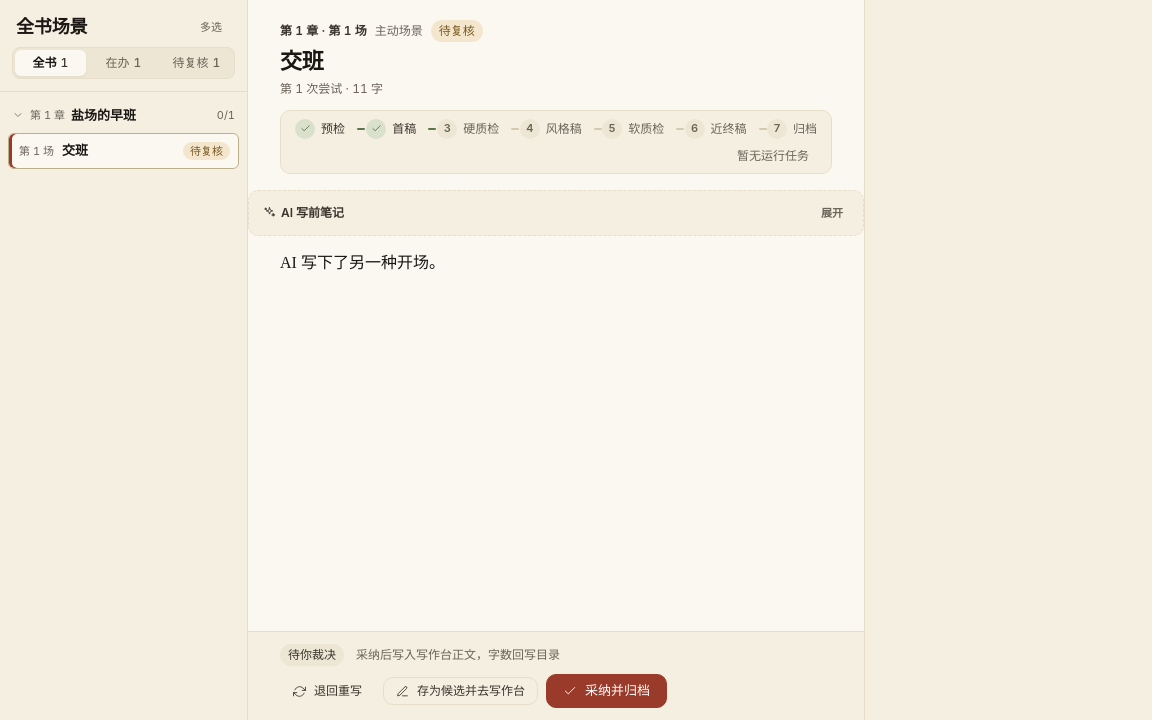
Test: 起草台「采纳并归档」：确认覆盖的是对话框里看过的那一稿（复核五 W1-R5A-1） › R5A-1 对话框给作者看的是 X 的差异，勾选确认、点「确认覆盖并归档」之前另一台设备存下了 Y：不备份、不发采纳请求，Y 不被换掉，对话框换成 Y 的差异、确认框复位
Click the button with test id "scene-archive" at (606, 691), box [546,674,667,708]
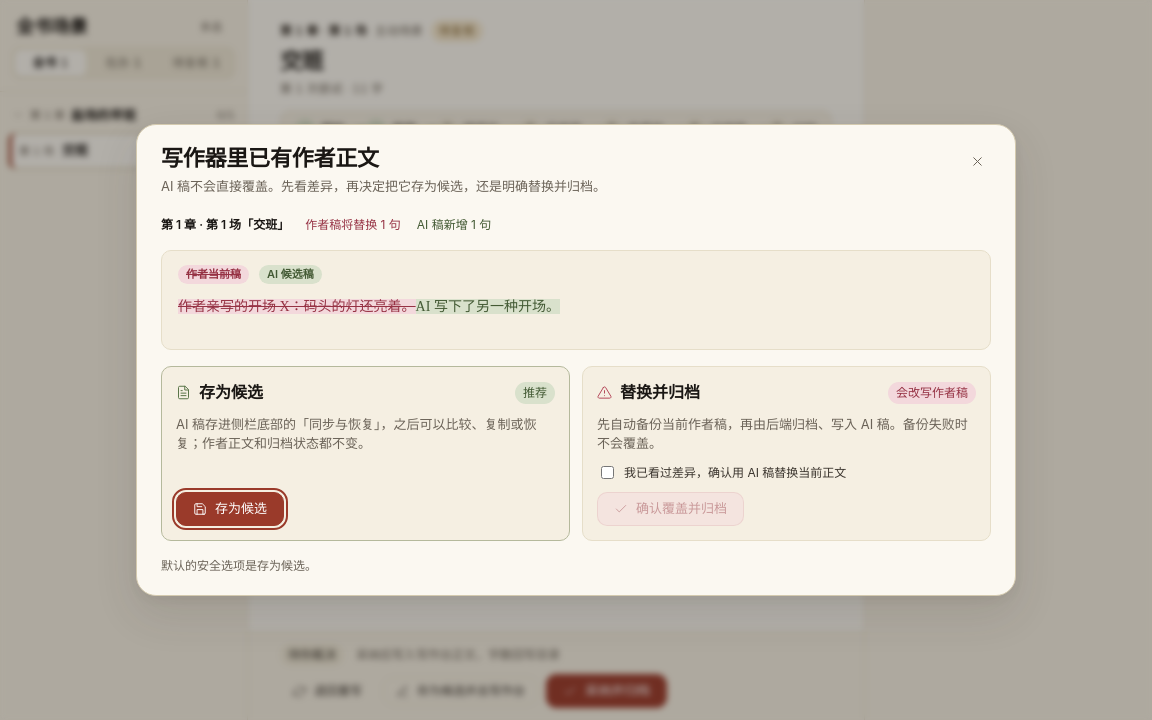
Expected: the text "她把船票撕了" is not shown
Now the dialog is shown, box [136,124,1016,596]
Click the checkbox labelled "我已看过差异，确认用 AI 稿替换当前正文" at (608, 472), box [601,466,614,478]
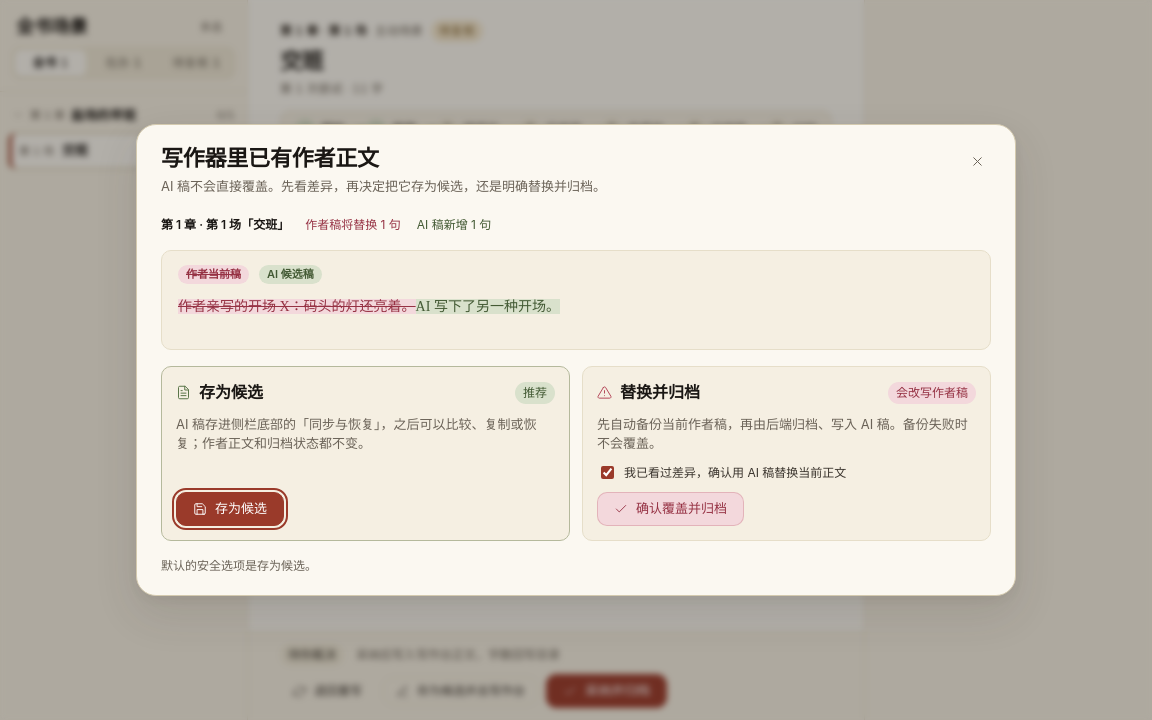
Now the button with test id "scene-confirm-overwrite" is enabled
Click the button with test id "scene-confirm-overwrite" at (670, 508), box [597,492,744,526]
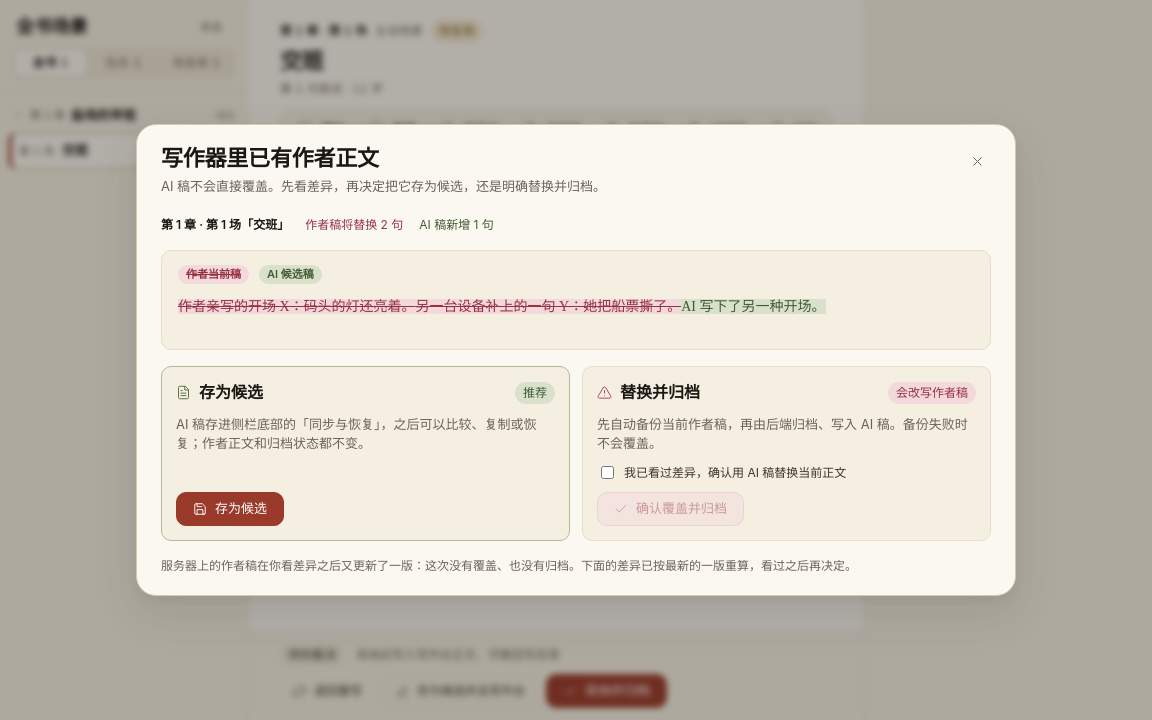
Now the dialog is shown, box [136,124,1016,596]
Now the message "服务器上的作者稿在你看差异之后又更新了一版：这次没有覆盖、也没有归档。下面的差异已按最新的一版重算，看过之后再决定。" is shown, box [161,558,857,572]
Now the element named "作者正文与 AI 稿差异" shows "她把船票撕了", box [416,299,681,314]
